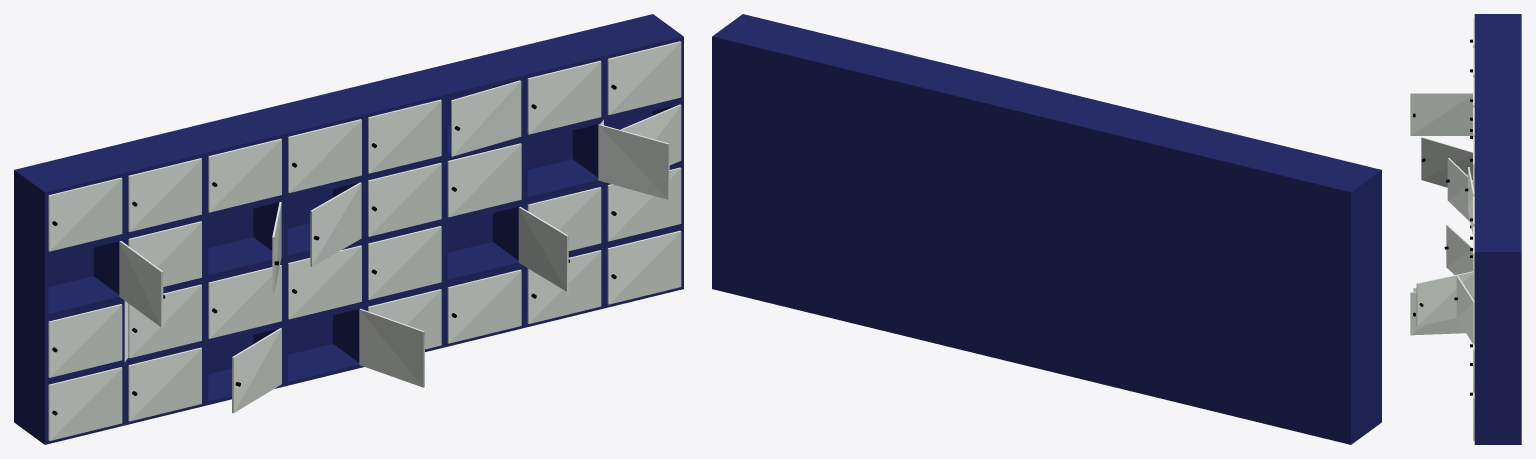
File: Mueble n1.fbx
The picture shows the model from 3 angles, left to right: view 1: azimuth 30°, elevation 25°; view 2: azimuth 150°, elevation 25°; view 3: azimuth 270°, elevation 25°; orthographic projection. The views are drawn at different scales.
Visible parts, largest first — view 1: オブジェクト_189.006; view 2: オブジェクト_189.006; view 3: オブジェクト_189.006.
Part boxes in pixels (x1=…): オブジェクト_189.006: x1=14, y1=14, x2=683, y2=444; オブジェクト_189.006: x1=712, y1=14, x2=1381, y2=444; オブジェクト_189.006: x1=1410, y1=14, x2=1521, y2=444.
Bounding box in the file's own units: 360 × 136 × 71.16.
